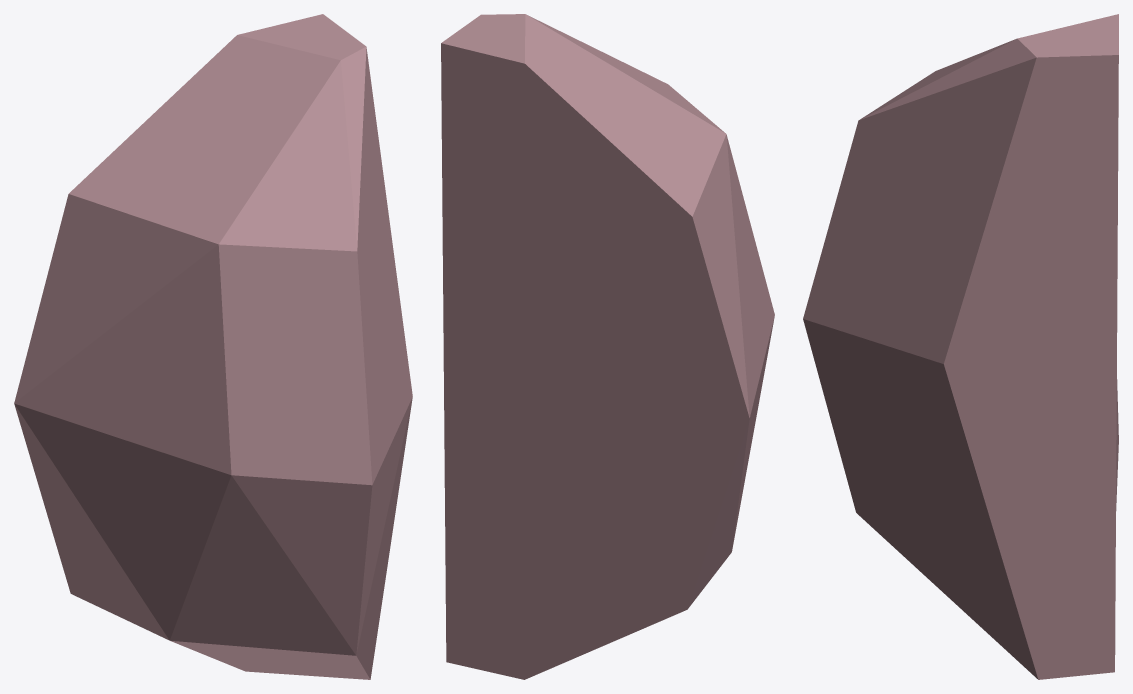
The model's file is CookedChicken.obj.
3 views of the same model, side by side, from view 1: azimuth 30°, elevation 25°; view 2: azimuth 150°, elevation 25°; view 3: azimuth 270°, elevation 25° (orthographic). The views are drawn at different scales.
Parts seen in each view (by area): view 1: Cylinder; view 2: Cylinder; view 3: Cylinder.
Part boxes in pixels (x1,y1,x2,y2): Cylinder: (14,14,412,679); Cylinder: (441,14,774,679); Cylinder: (803,14,1118,679).
Bounding box in the file's own units: 0.0791 × 0.1512 × 0.0696.
